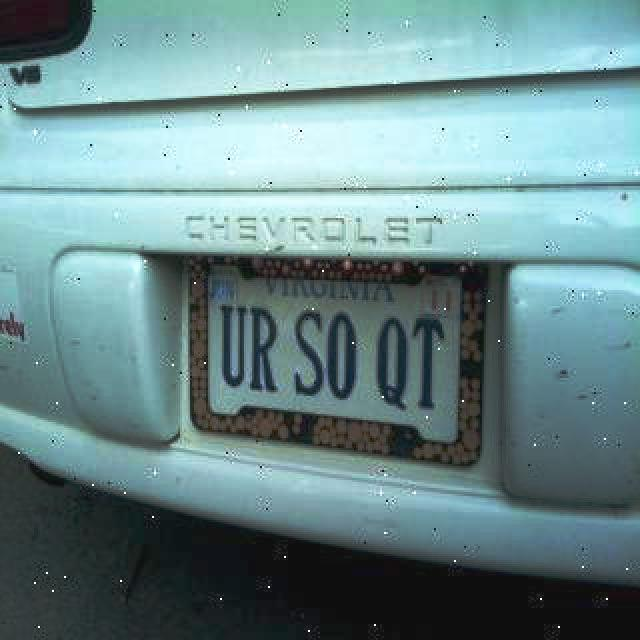license_plate: (193, 250, 489, 475)
